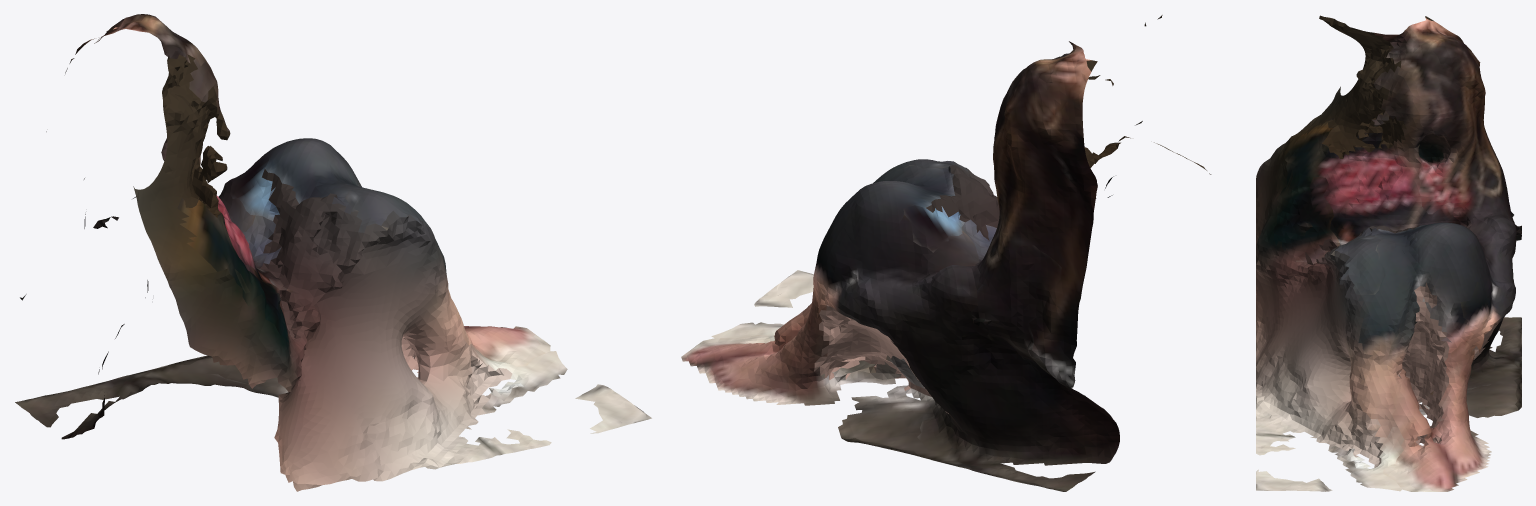
3 renders of one model, left to right at view 1: azimuth 30°, elevation 25°; view 2: azimuth 150°, elevation 25°; view 3: azimuth 270°, elevation 25°, orthographic. The views are drawn at different scales.
Size of the model in its own units: 0.8514 by 0.7259 by 0.5555.
Materials: 1 (1 with a texture image).
